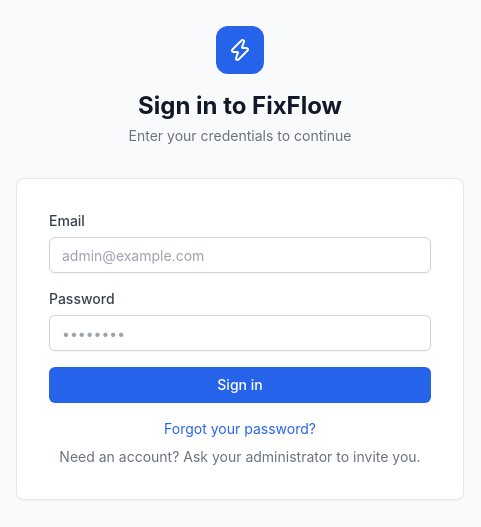
Scenario: LoginPage › shows password validation error
In the field labelled "Email": (240, 255) [49, 237, 431, 273], type "user@test.com"
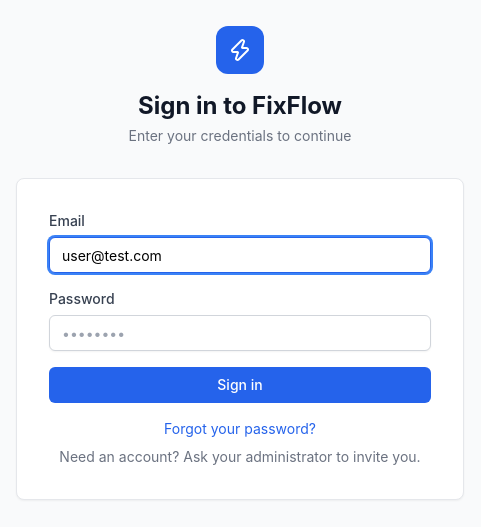
In the password field labelled "Password": (240, 333) [49, 315, 431, 351], type "short"
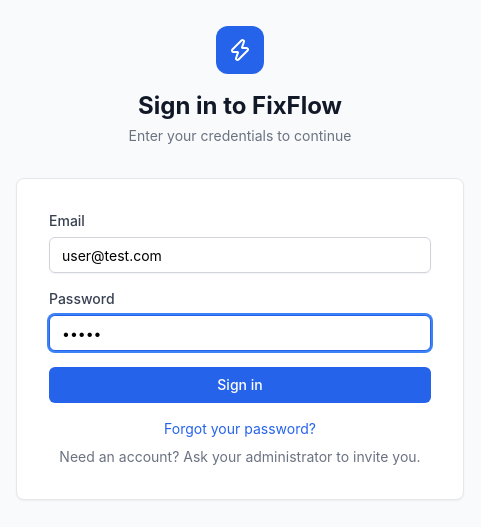
Click the button "Sign in": click(240, 385) [49, 367, 431, 403]
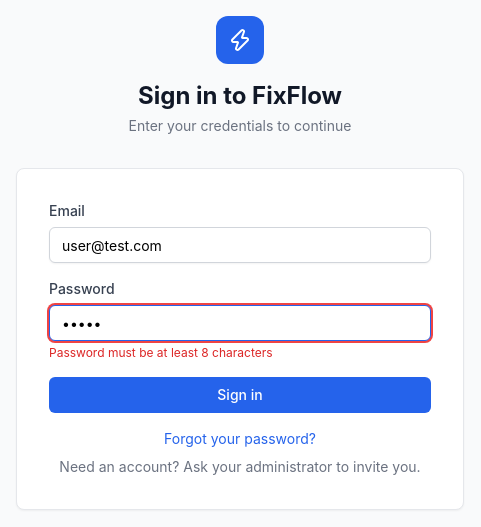
Result: the text "Password must be at least 8 characters" is shown at [49, 345, 273, 360]
